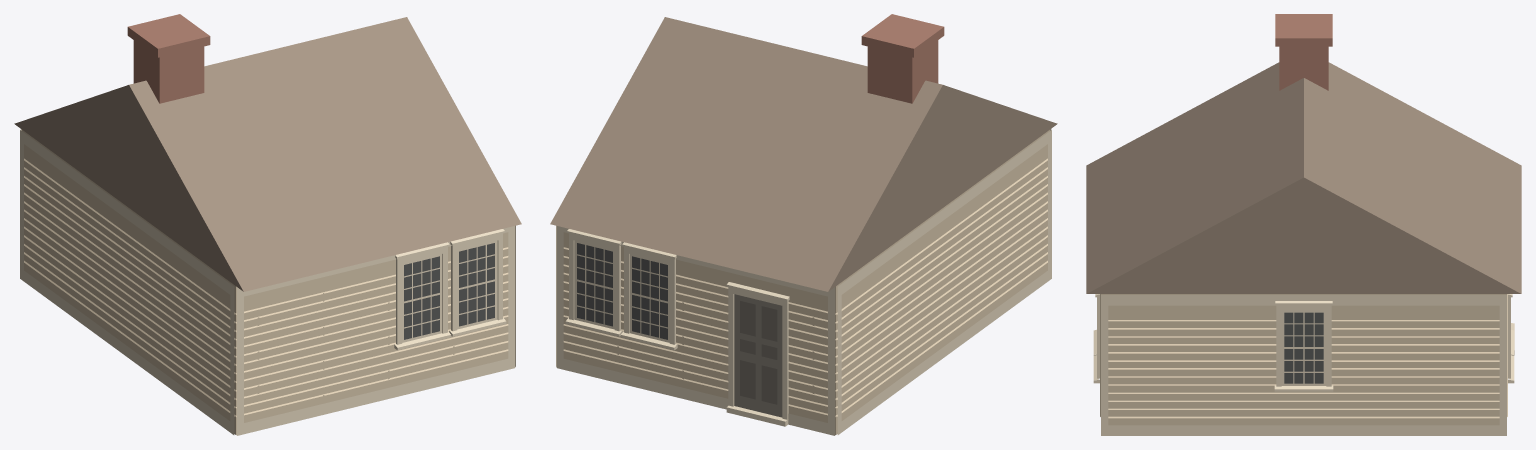
File: recon_1835_north_d3_081__inferred_1835.glb
3 renders of one model, left to right at view 1: azimuth 30°, elevation 25°; view 2: azimuth 150°, elevation 25°; view 3: azimuth 270°, elevation 25°, orthographic. The views are drawn at different scales.
Visible parts, largest first — view 1: recon_1835_north_d3_081__inferred_1835; view 2: recon_1835_north_d3_081__inferred_1835; view 3: recon_1835_north_d3_081__inferred_1835.
Part boxes in pixels (left/top/right/bottom): recon_1835_north_d3_081__inferred_1835: left=14, top=14, right=521, bottom=435; recon_1835_north_d3_081__inferred_1835: left=550, top=14, right=1057, bottom=435; recon_1835_north_d3_081__inferred_1835: left=1086, top=14, right=1521, bottom=435.
Bounding box in the file's own units: 5.36 × 5.65 × 7.45.
